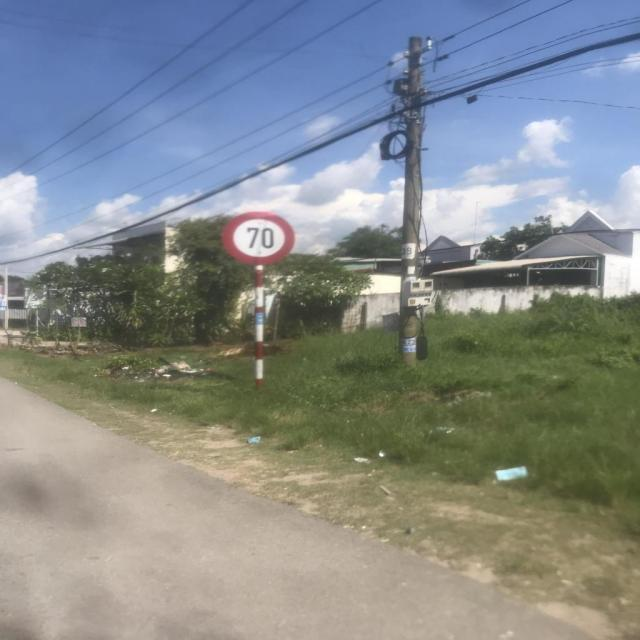127-toc-do-toi-da-70: (224, 210, 296, 266)
